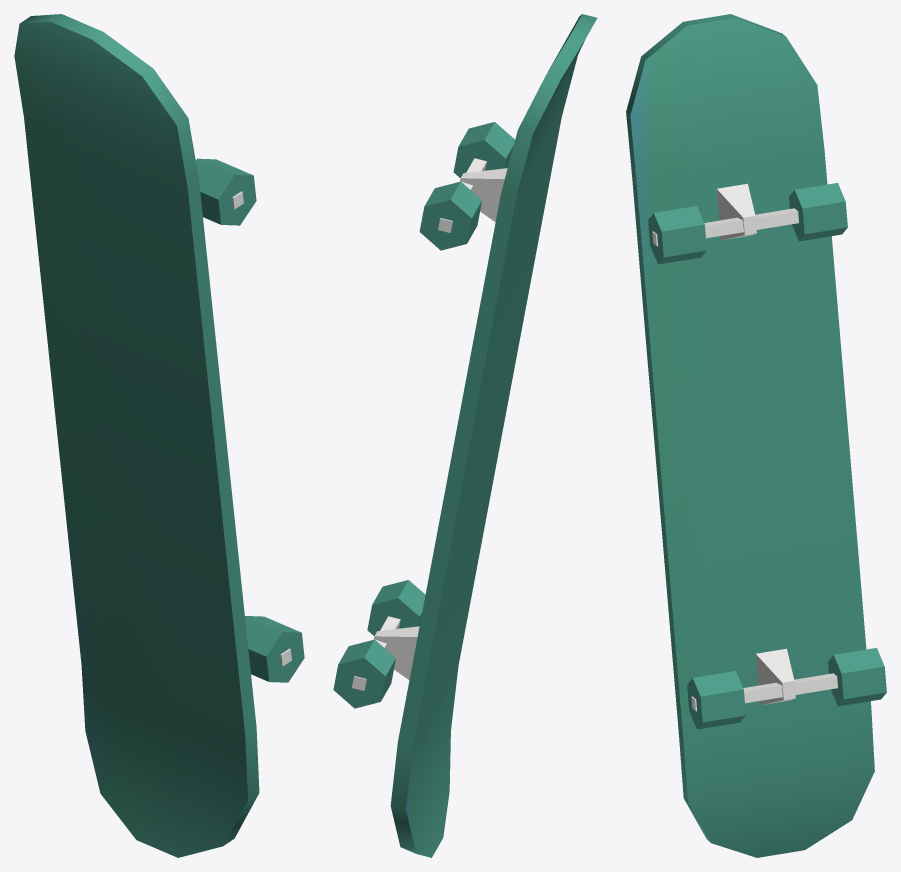
Rendered from Childroom2_skateboard.fbx.
The picture shows the model from 3 angles, left to right: view 1: azimuth 30°, elevation 25°; view 2: azimuth 150°, elevation 25°; view 3: azimuth 270°, elevation 25°; orthographic projection. The views are drawn at different scales.
Visible parts, largest first — view 1: Childroom2_skateboard; view 2: Childroom2_skateboard; view 3: Childroom2_skateboard.
Boxes of the visible parts, x1,y1,x2,y2 form: Childroom2_skateboard: (14,14,304,857); Childroom2_skateboard: (333,14,597,857); Childroom2_skateboard: (626,14,886,857).
Size of the model in its own units: 28.41 by 99.63 by 30.13.
